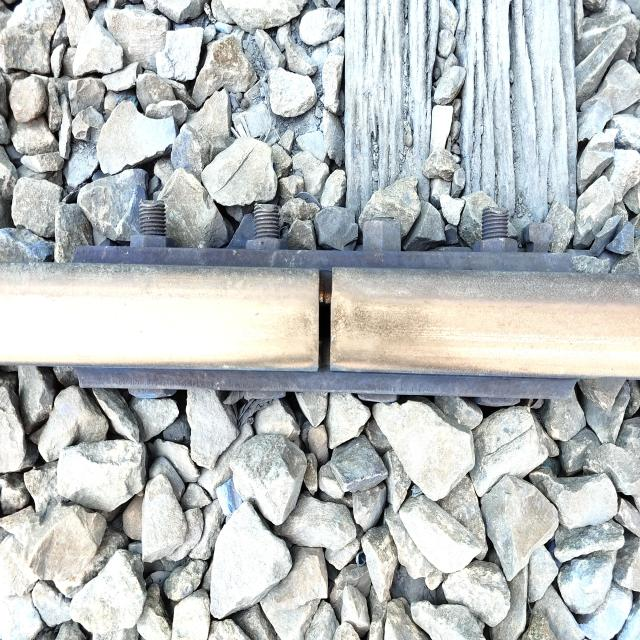crack: (302, 250, 354, 390)
